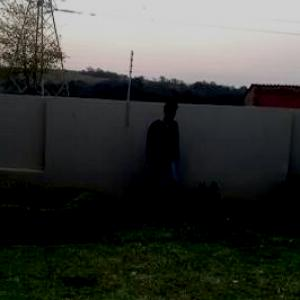follow: (144, 98, 180, 217)
